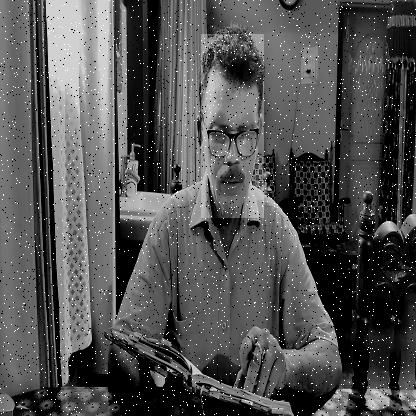Normal: (201, 34, 264, 218)
